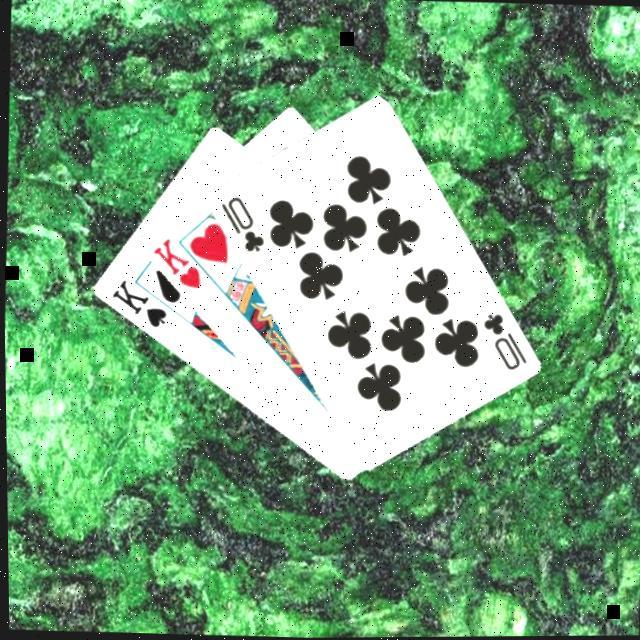10C: (216, 194, 268, 258), (478, 312, 530, 376)
KH: (147, 236, 206, 294)
KS: (106, 277, 172, 333)
